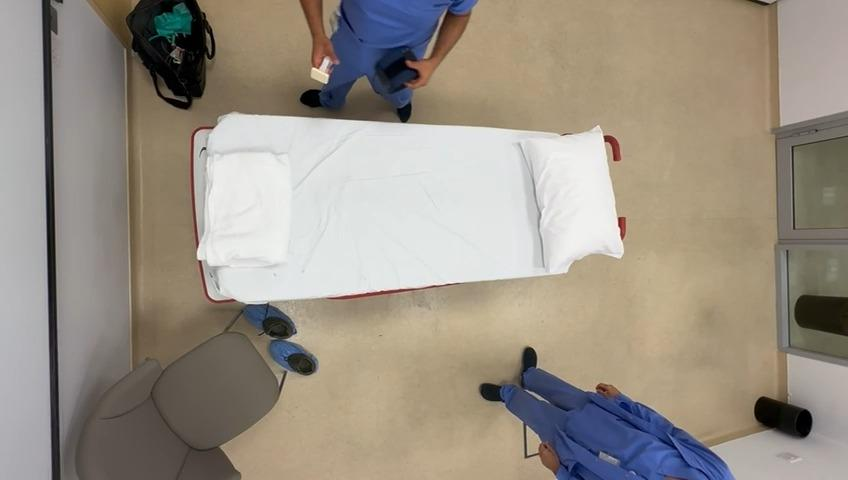bed: (192, 116, 626, 302)
prepstick: (310, 56, 333, 84)
tourniquet: (376, 46, 419, 93)
